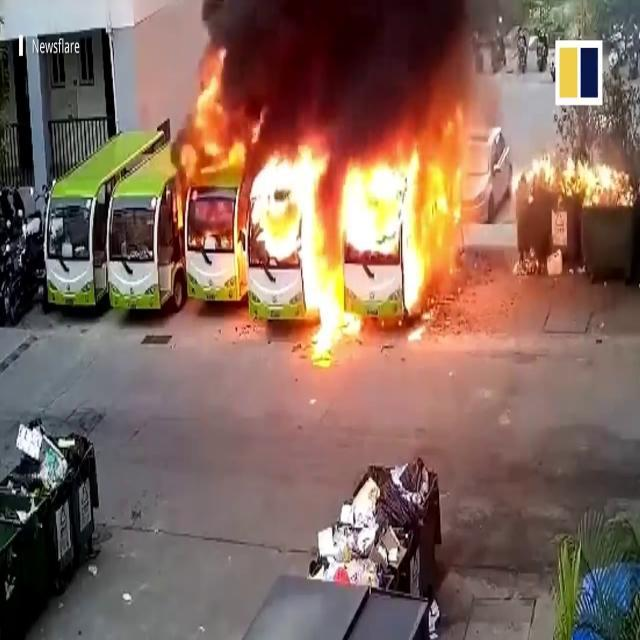Fire: (177, 88, 455, 340), (520, 138, 638, 214)
Smoke: (184, 0, 509, 137)
